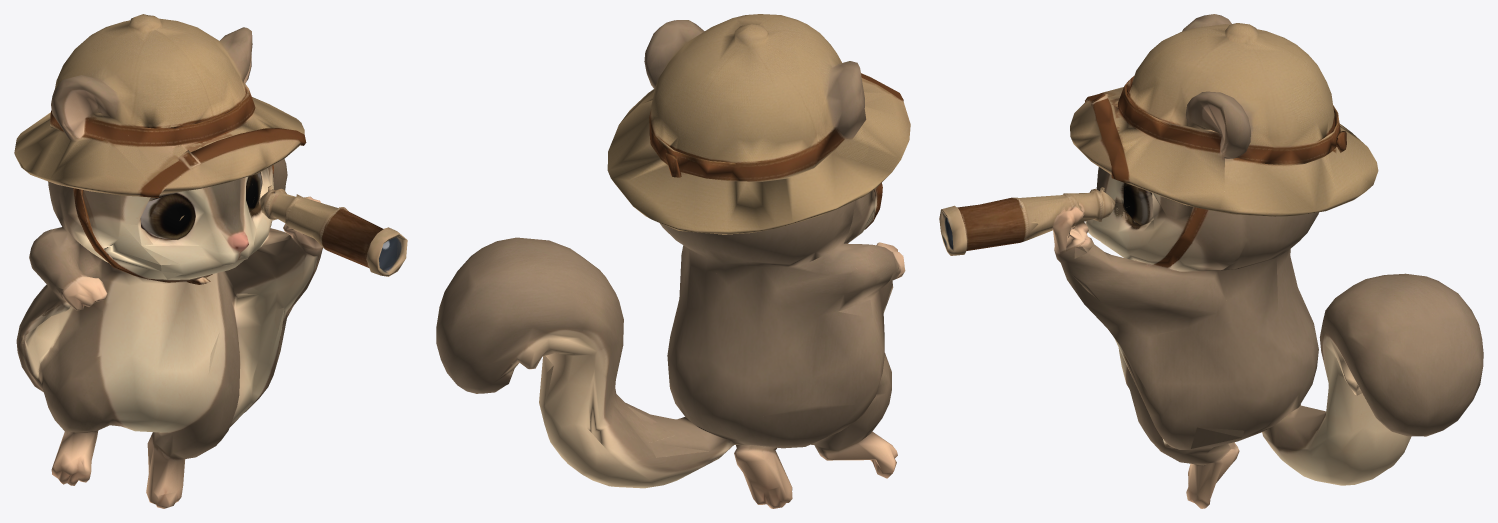
The model's file is sq-nature-lowpoly4x.glb.
The picture shows the model from 3 angles, left to right: view 1: azimuth 30°, elevation 25°; view 2: azimuth 150°, elevation 25°; view 3: azimuth 270°, elevation 25°; orthographic projection. The views are drawn at different scales.
Parts seen in each view (by area): view 1: Mesh_0; view 2: Mesh_0; view 3: Mesh_0.
Boxes of the visible parts, x1,y1,x2,y2 form: Mesh_0: (14,14,407,508); Mesh_0: (436,14,910,508); Mesh_0: (939,14,1483,508).
Size of the model in its own units: 2.67 by 3.58 by 3.68.
Materials: 1 (1 with a texture image).
